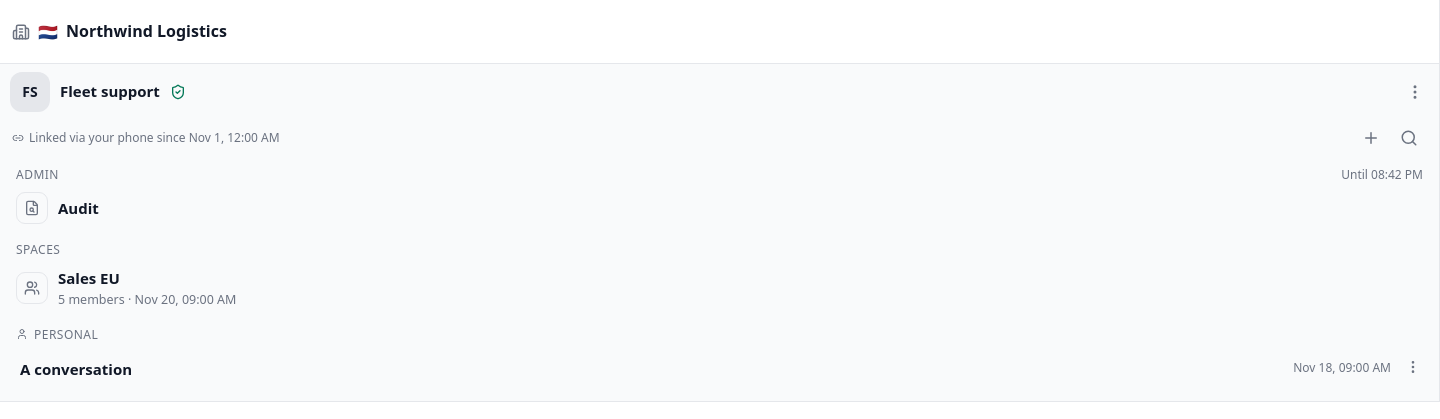
Show Admin and Hide Admin in the agent's menu (UI-ADMIN-001) › reads Hide Admin while the grant is open
The image size is (1440, 419).
Click the 1st button named "Agent options" at (1415, 92), box [1397,74,1433,110]
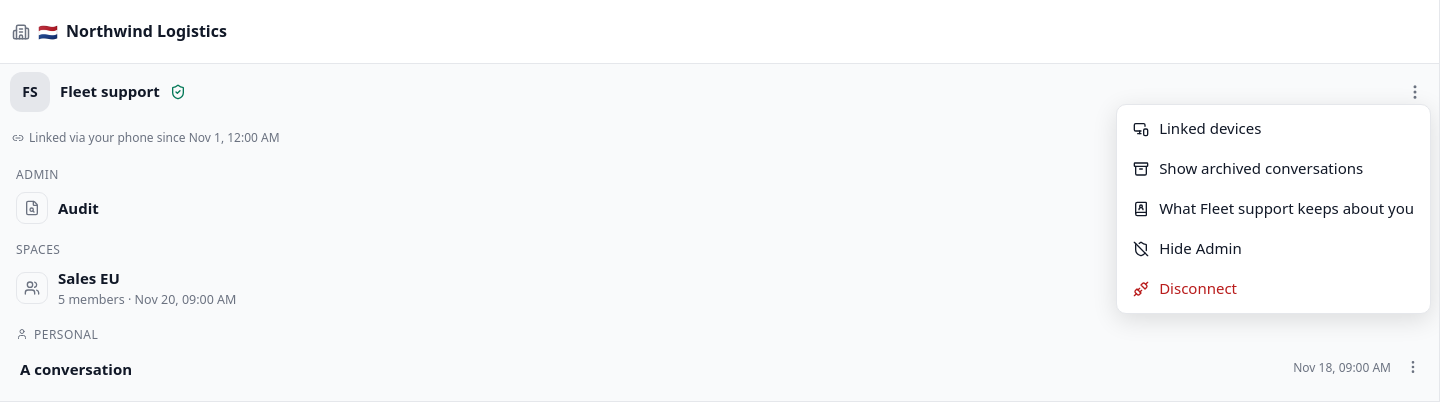
expect the menu item "Hide Admin" is shown: met, box [1121,229,1426,269]
